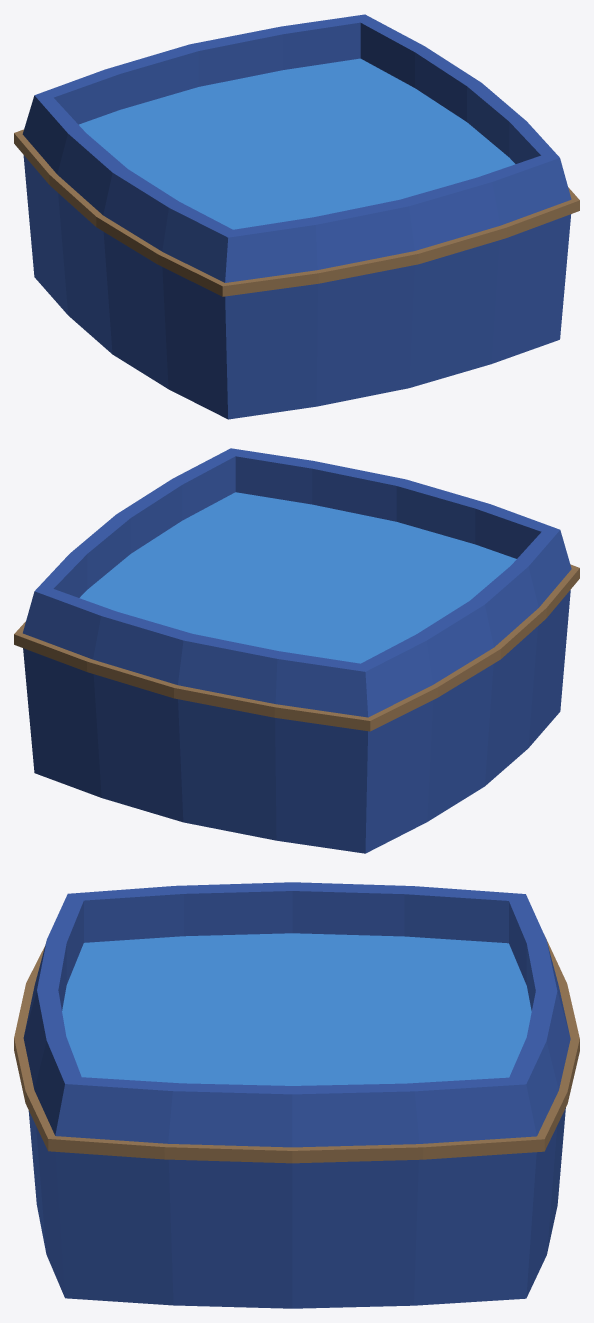
File: Kolam_kosong.fbx
3 renders of one model, top to bottom at view 1: azimuth 30°, elevation 25°; view 2: azimuth 150°, elevation 25°; view 3: azimuth 270°, elevation 25°, orthographic. The views are drawn at different scales.
Visible parts, largest first — view 1: Bak; view 2: Bak; view 3: Bak.
Part boxes in pixels (<box>): Bak: <box>14,14,579,419</box>; Bak: <box>14,448,579,853</box>; Bak: <box>14,882,579,1308</box>.
Bounding box in the file's own units: 232 × 100 × 240.
